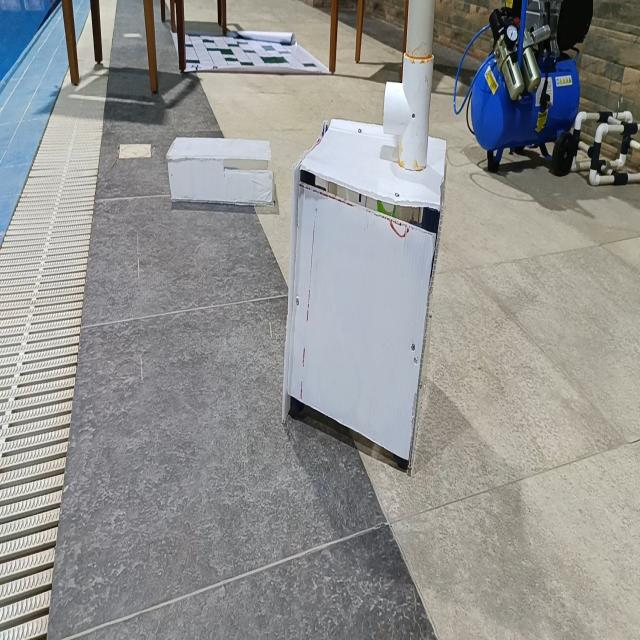Cube: (281, 116, 447, 473)
Cuboid: (165, 135, 274, 206)
